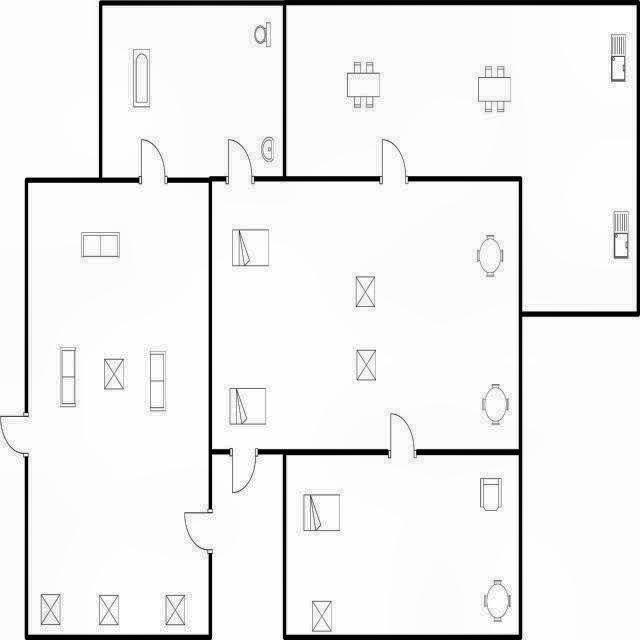room: (286, 5, 637, 312), (212, 181, 519, 449), (28, 183, 209, 635), (286, 455, 519, 635), (102, 6, 283, 176), (212, 454, 283, 639)
